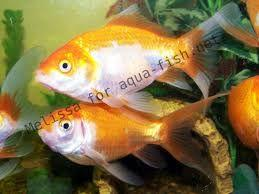Gold Fish: (32, 3, 242, 102), (36, 99, 217, 190)
